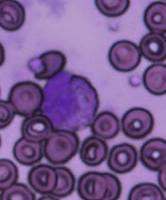B: (40, 70, 99, 130)
